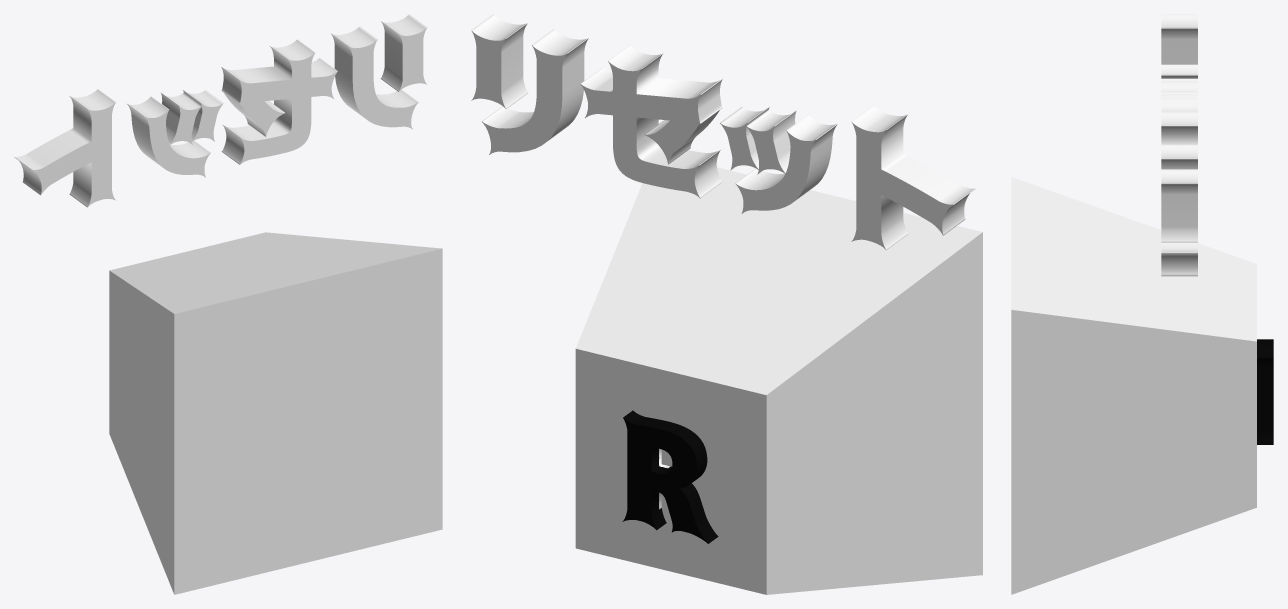
File: Rkey.obj
The picture shows the model from 3 angles, left to right: view 1: azimuth 30°, elevation 25°; view 2: azimuth 150°, elevation 25°; view 3: azimuth 270°, elevation 25°; orthographic projection. The views are drawn at different scales.
Parts seen in each view (by area): view 1: 立方体; view 2: 立方体; view 3: 立方体.
Boxes of the visible parts, x1,y1,x2,y2 form: 立方体: (14, 14, 442, 594); 立方体: (471, 14, 982, 594); 立方体: (1011, 14, 1273, 594).
Size of the model in its own units: 2.53 by 2.67 by 1.43.
Materials: 1 (1 with a texture image).
